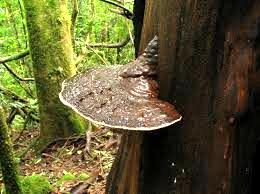Ganoderma - Fruit Body: (61, 37, 184, 132)
